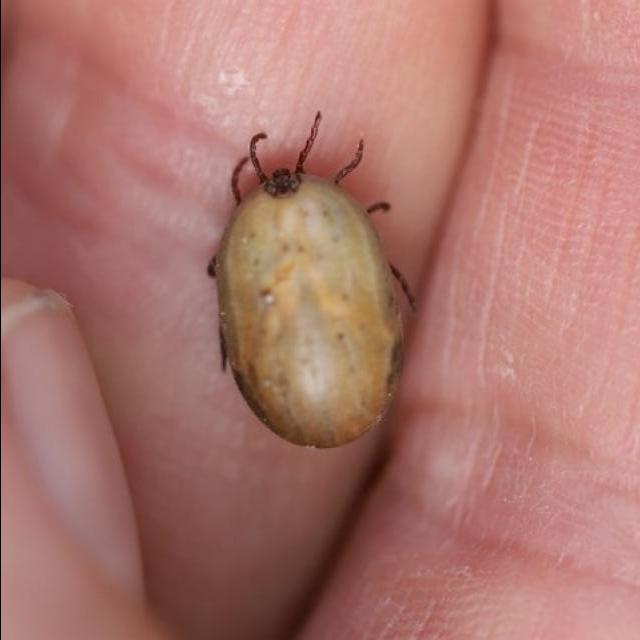Dermacentor Reticulatus-F-Fed: (206, 111, 416, 448)
